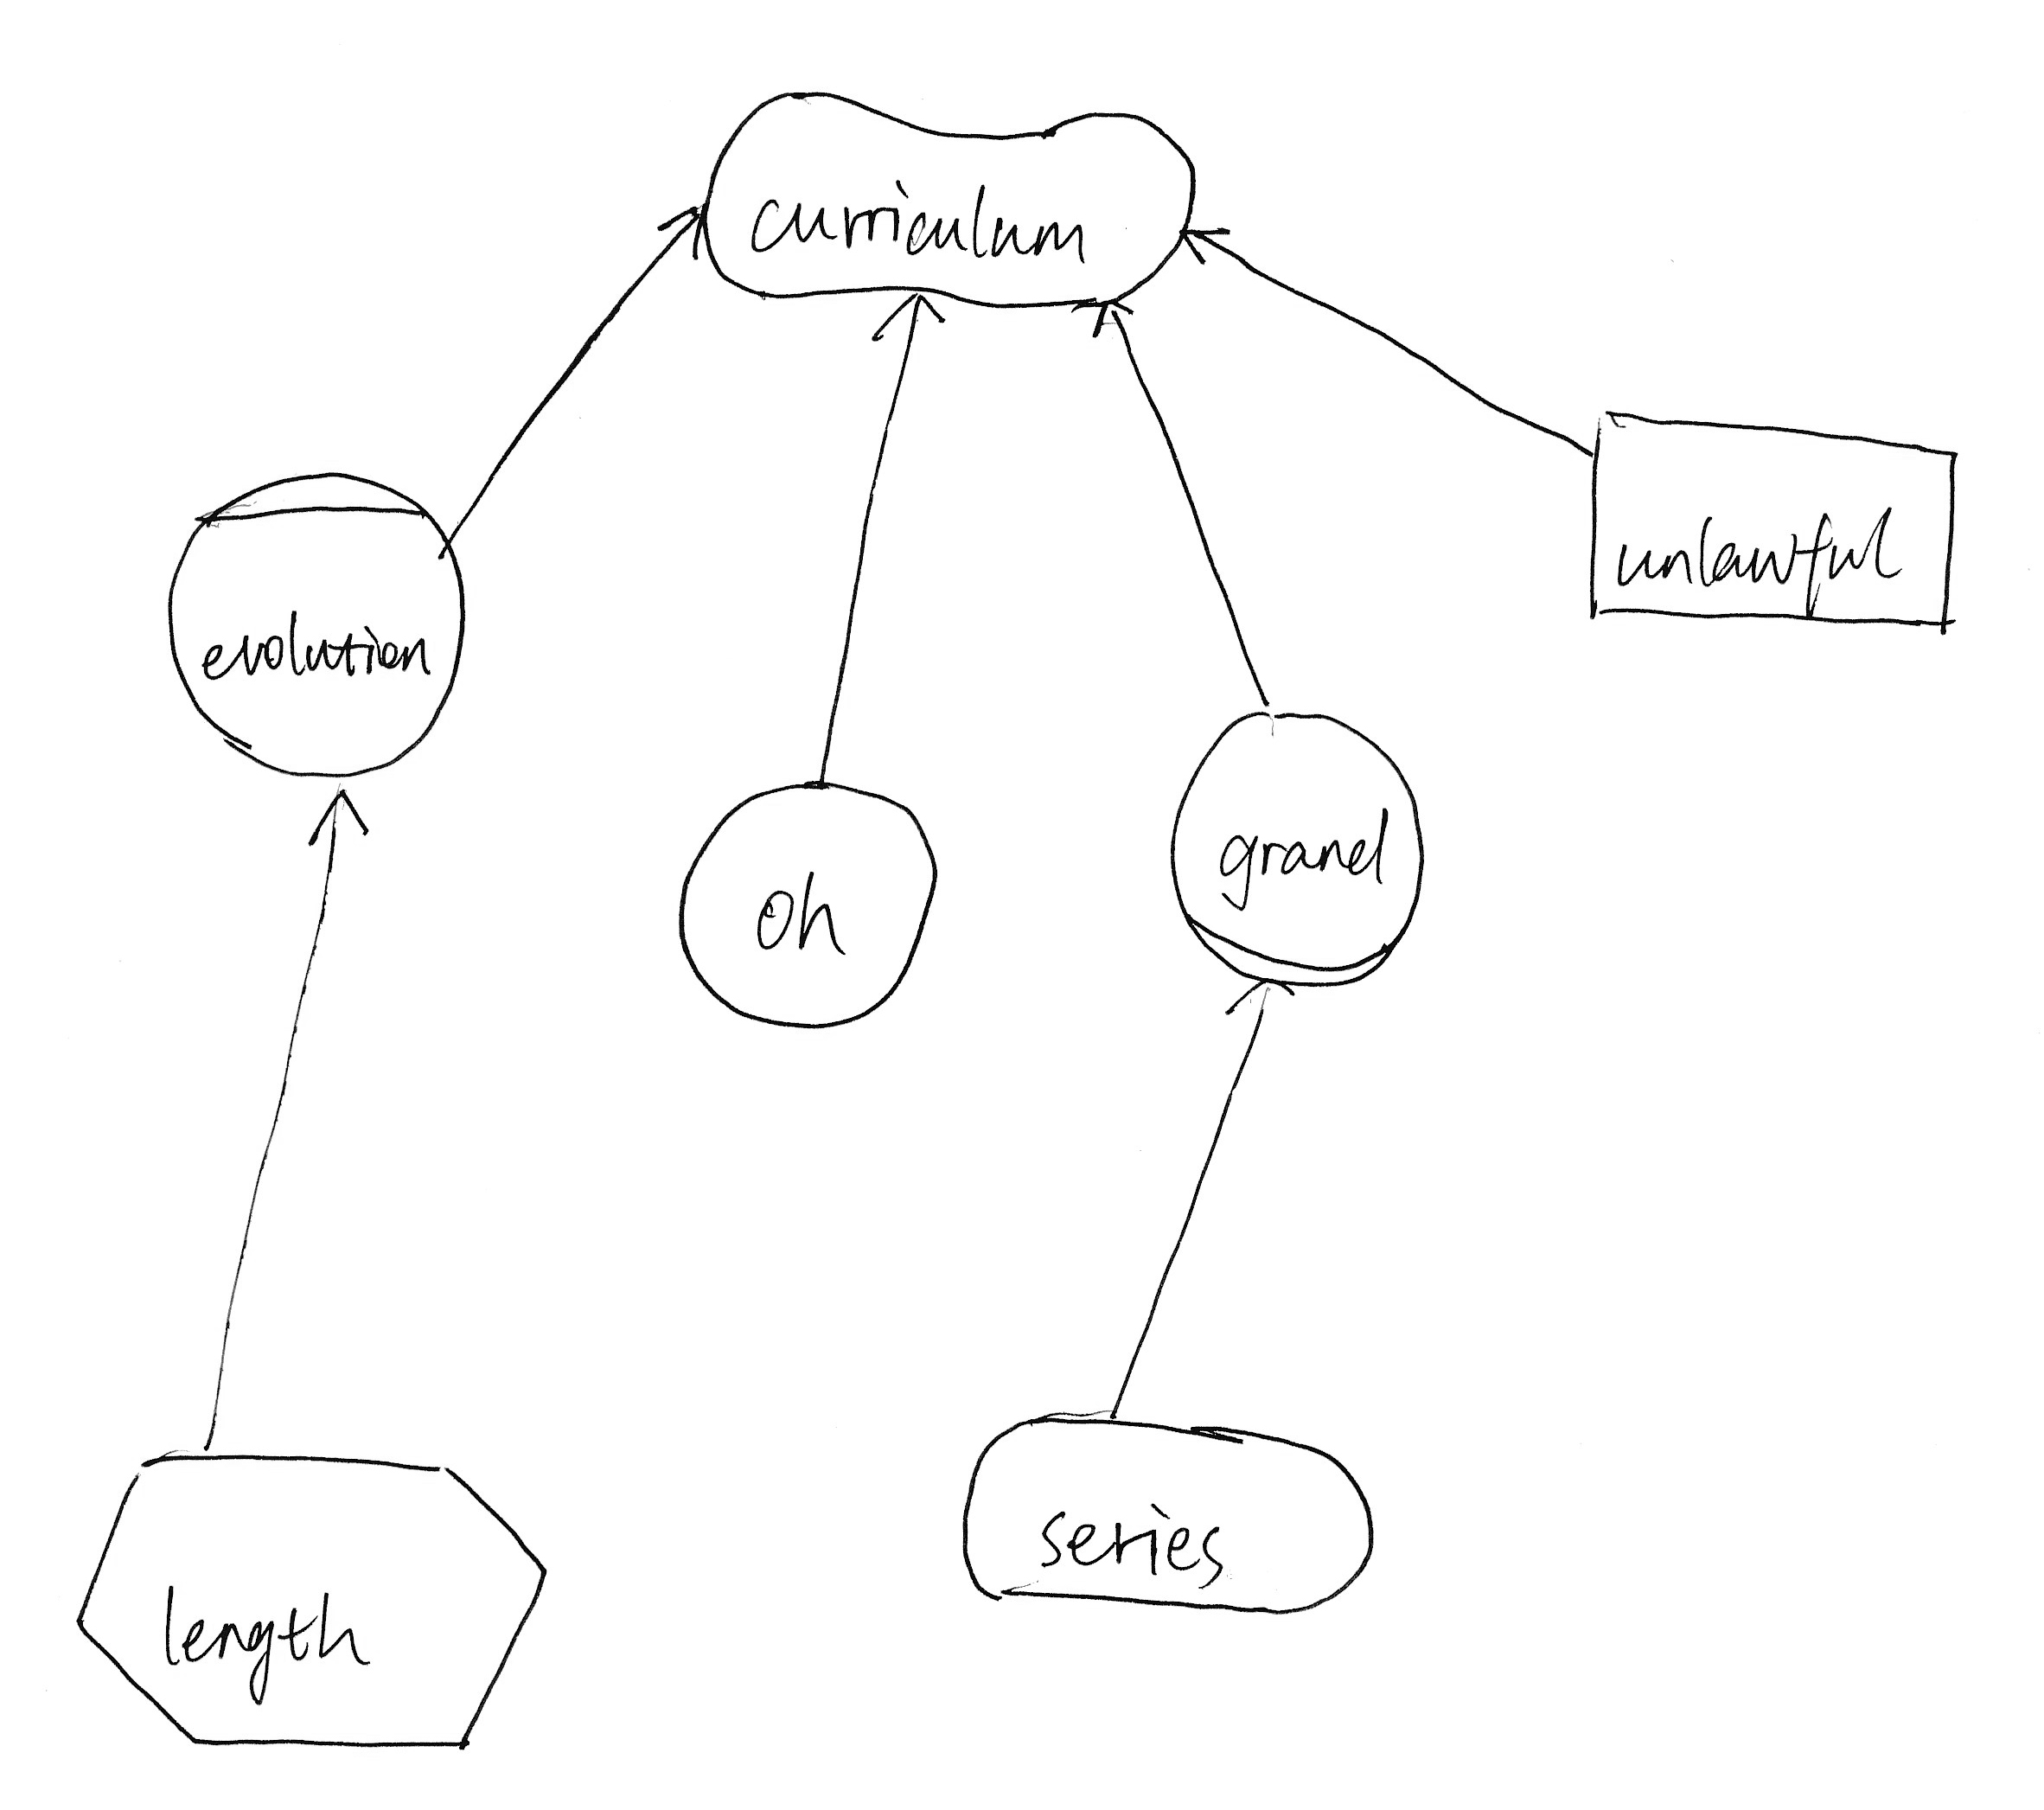actor: (664, 767, 952, 1045)
agent: (152, 454, 475, 790)
arrow: (1200, 968, 1309, 1040), (854, 287, 957, 356), (645, 187, 715, 287), (299, 779, 379, 861), (1170, 204, 1247, 285), (1073, 295, 1148, 351)
goal: (935, 1396, 1387, 1623)
quality: (688, 73, 1216, 323)
resource: (1572, 390, 1990, 650)
role: (1157, 697, 1447, 998)
task: (63, 1429, 561, 1777)
